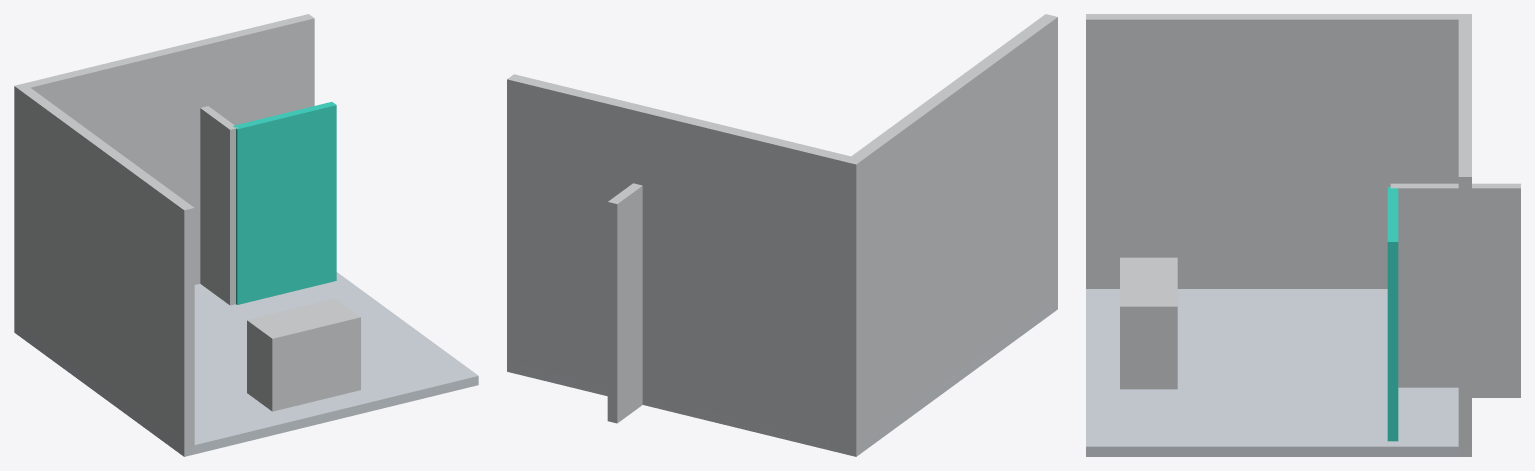
The picture shows the model from 3 angles, left to right: view 1: azimuth 30°, elevation 25°; view 2: azimuth 150°, elevation 25°; view 3: azimuth 270°, elevation 25°; orthographic projection. The views are drawn at different scales.
Parts seen in each view (by area): view 1: Exhibition Booth Concept; view 2: Exhibition Booth Concept; view 3: Exhibition Booth Concept.
Part boxes in pixels (x1,y1,x2,y2): Exhibition Booth Concept: (14, 14, 478, 456); Exhibition Booth Concept: (507, 14, 1057, 456); Exhibition Booth Concept: (1086, 14, 1520, 456).
Size of the model in its own units: 4 by 3.2 by 4.51.
